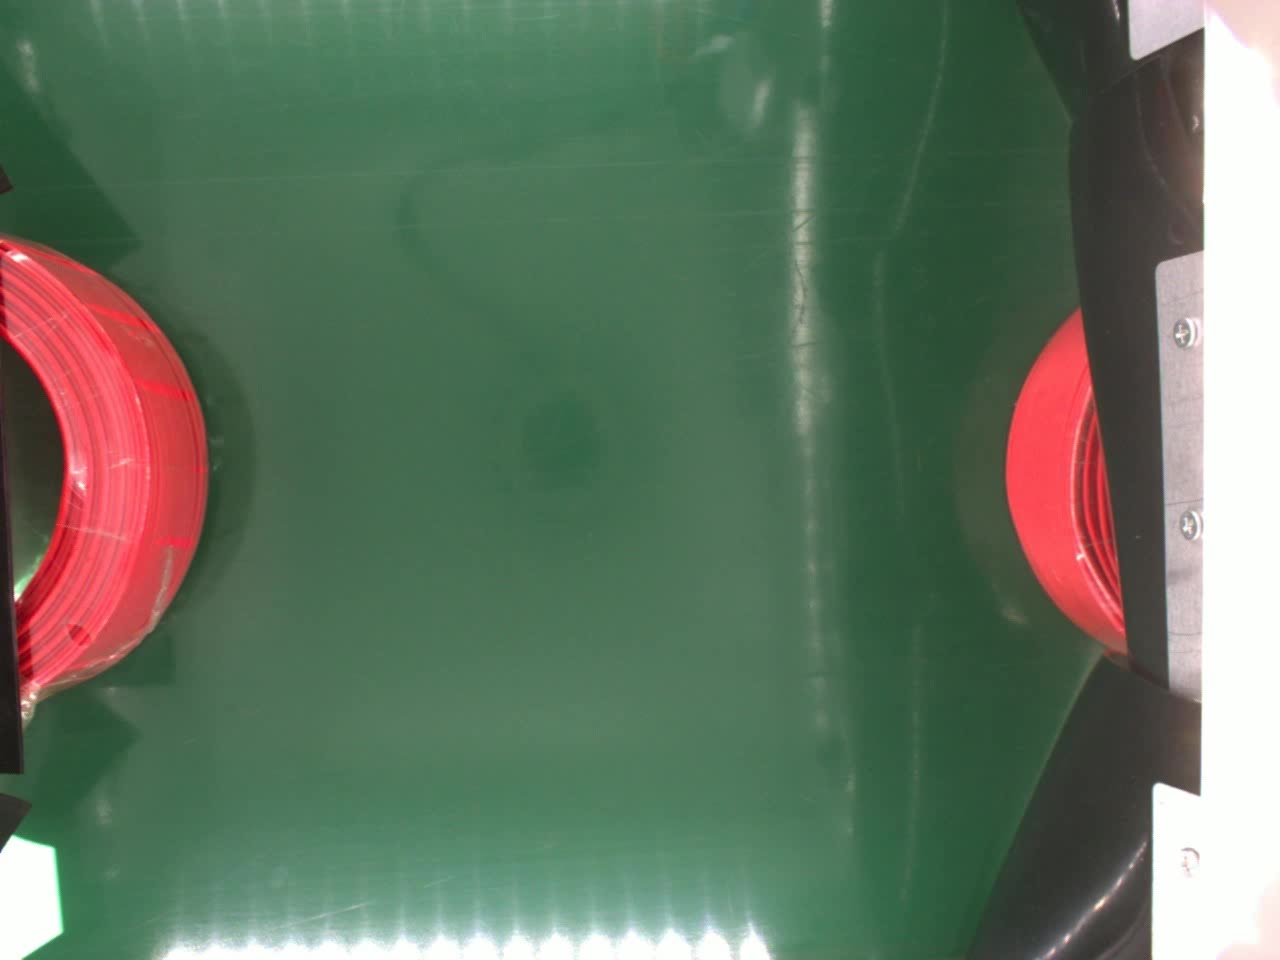red: (0, 234, 207, 694), (1009, 301, 1126, 647)
